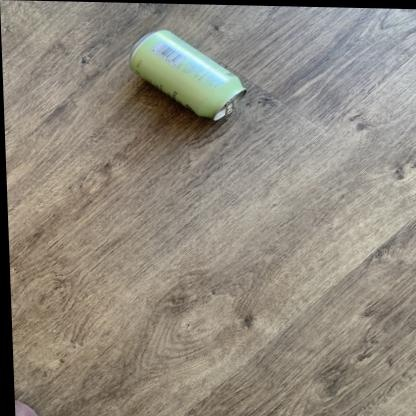trash: (130, 30, 244, 120)
